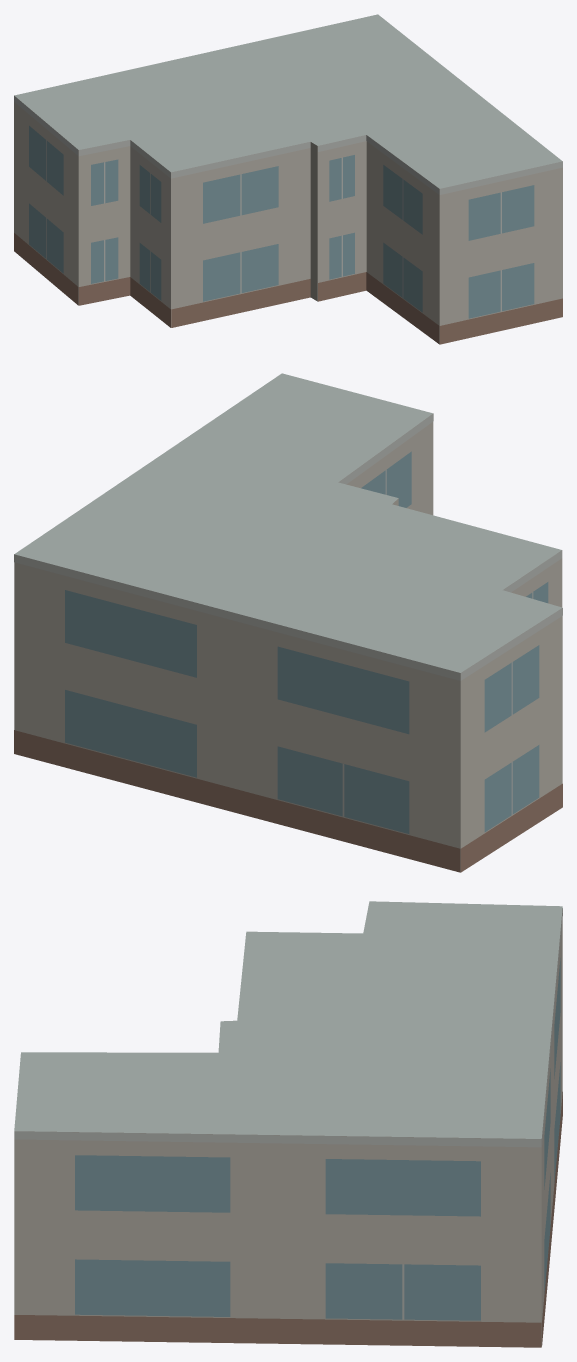
File: survey-upis-32879133.glb
3 views of the same model, one above another, from view 1: azimuth 30°, elevation 25°; view 2: azimuth 150°, elevation 25°; view 3: azimuth 270°, elevation 25° (orthographic). The views are drawn at different scales.
Visible parts, largest first — view 1: survey-upis-32879133.tmp; view 2: survey-upis-32879133.tmp; view 3: survey-upis-32879133.tmp.
Part boxes in pixels (x1=…): survey-upis-32879133.tmp: x1=14, y1=14, x2=562, y2=344; survey-upis-32879133.tmp: x1=14, y1=373, x2=562, y2=872; survey-upis-32879133.tmp: x1=14, y1=901, x2=562, y2=1347.
Size of the model in its own units: 14.92 by 6.1 by 14.55.
